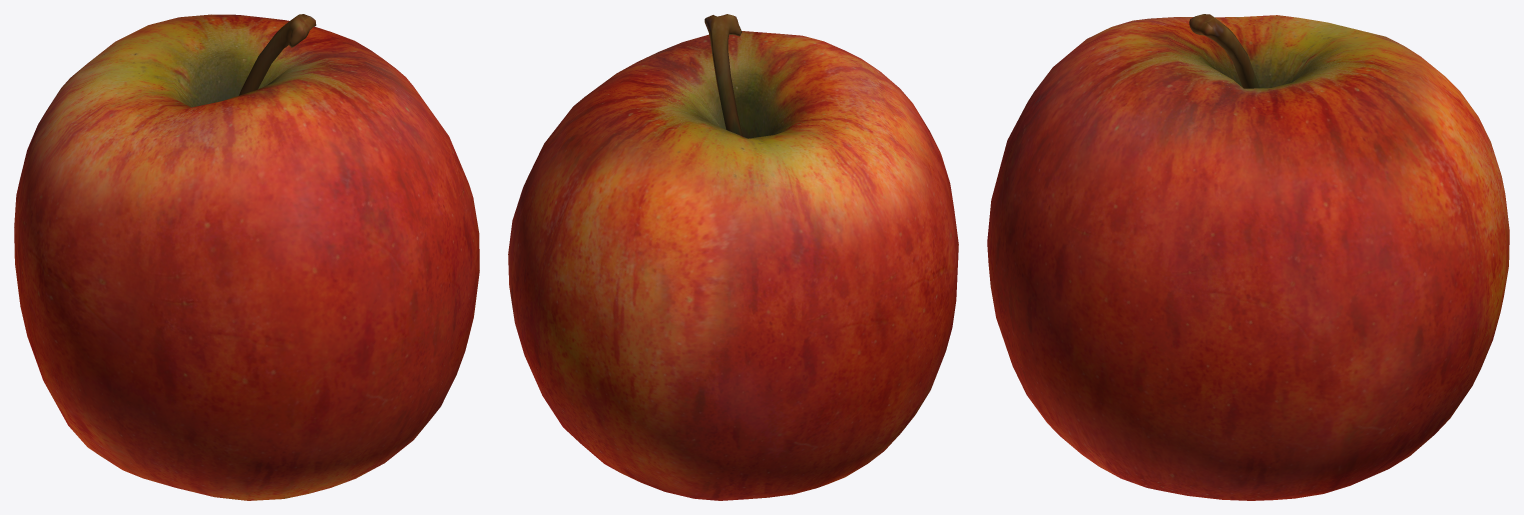
The model's file is apple.glb.
3 renders of one model, left to right at view 1: azimuth 30°, elevation 25°; view 2: azimuth 150°, elevation 25°; view 3: azimuth 270°, elevation 25°, orthographic. The views are drawn at different scales.
Visible parts, largest first — view 1: apple; view 2: apple; view 3: apple.
Part boxes in pixels (box(x1,y1,x2,y2)): apple: box(14, 14, 479, 500); apple: box(508, 14, 958, 500); apple: box(987, 14, 1509, 500).
Bounding box in the file's own units: 76.34 × 79.5 × 82.14.
1 material, 1 textured.
